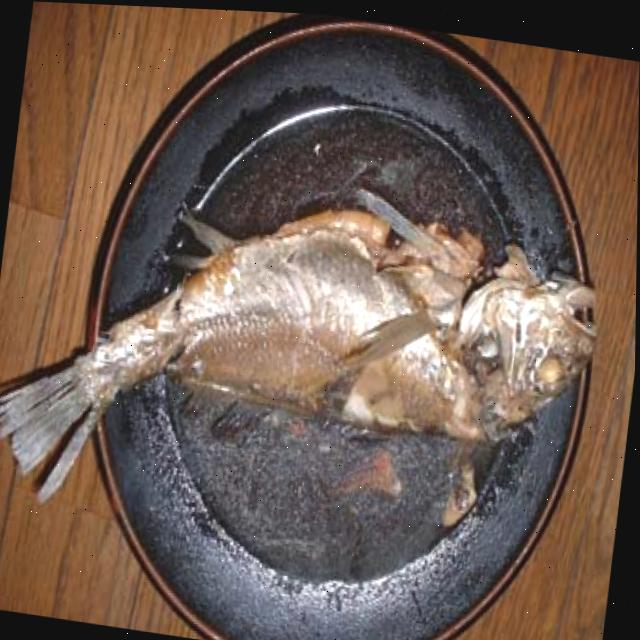熟制海鲜: (0, 88, 629, 598)
